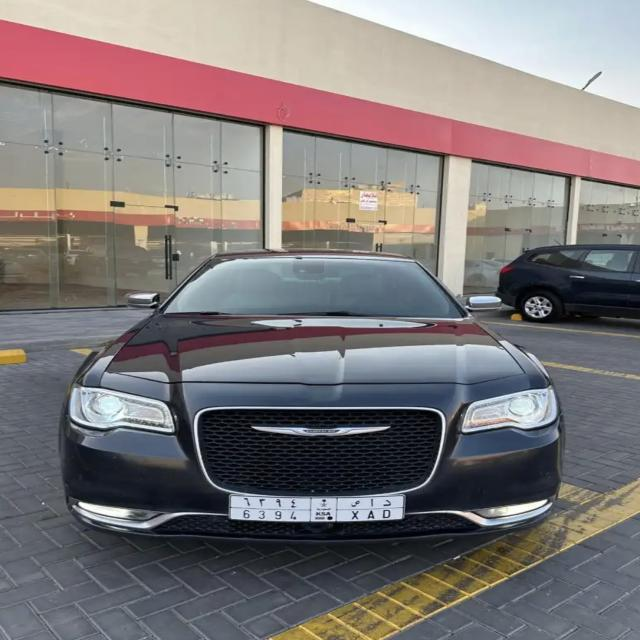license_plate: (228, 493, 406, 522)
